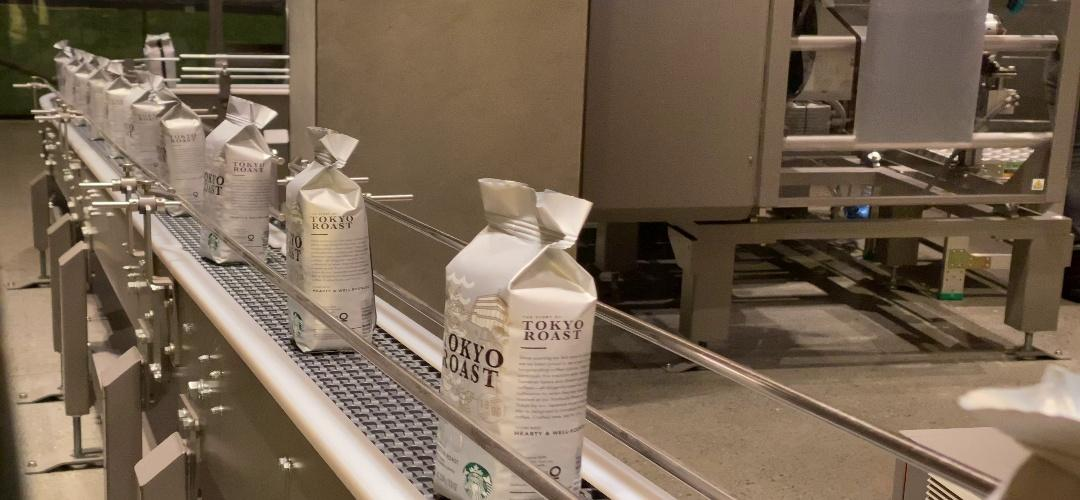conveyor: (446, 266, 592, 398), (287, 186, 375, 281), (201, 139, 273, 212)
